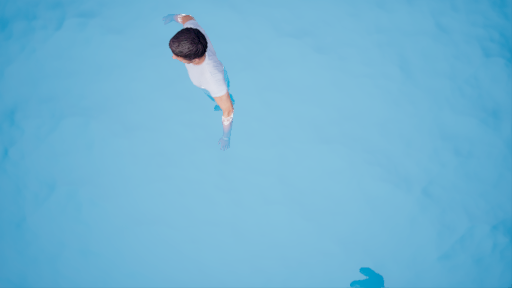person: (159, 12, 248, 154)
